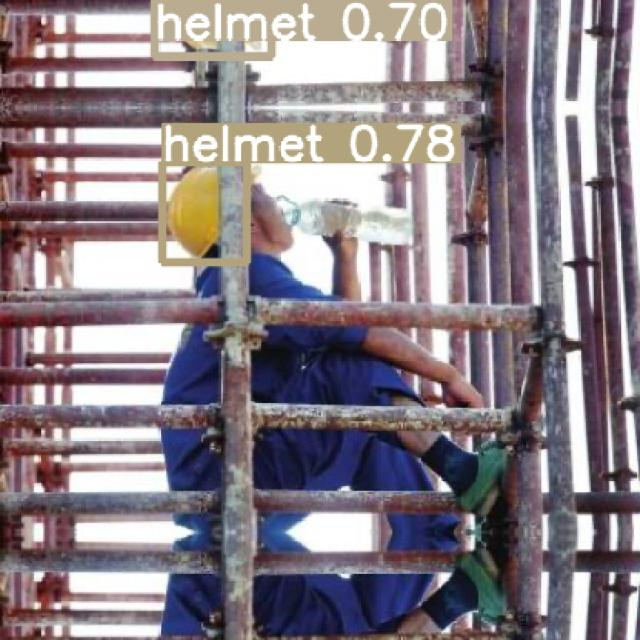helmet: (162, 162, 246, 262), (154, 0, 271, 55)
